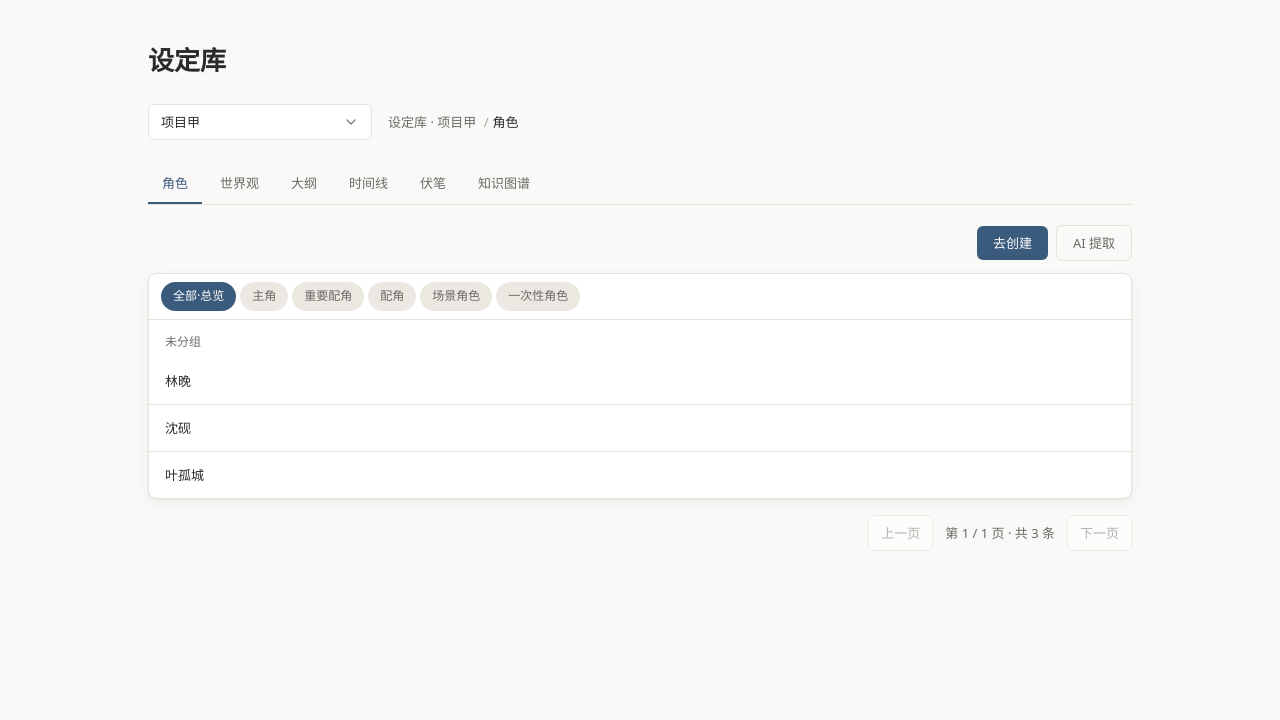
Test: #650 角色关系 GUI（T1 关系区契约，角色详情面板内） › 关闭面板：点 character-detail-close → 面板消失（关系区随之卸载）
Check: the element with test id "library-list" is shown, box [148, 273, 1132, 499]
Click the button "林晚" at (178, 381), box [165, 370, 1047, 392]
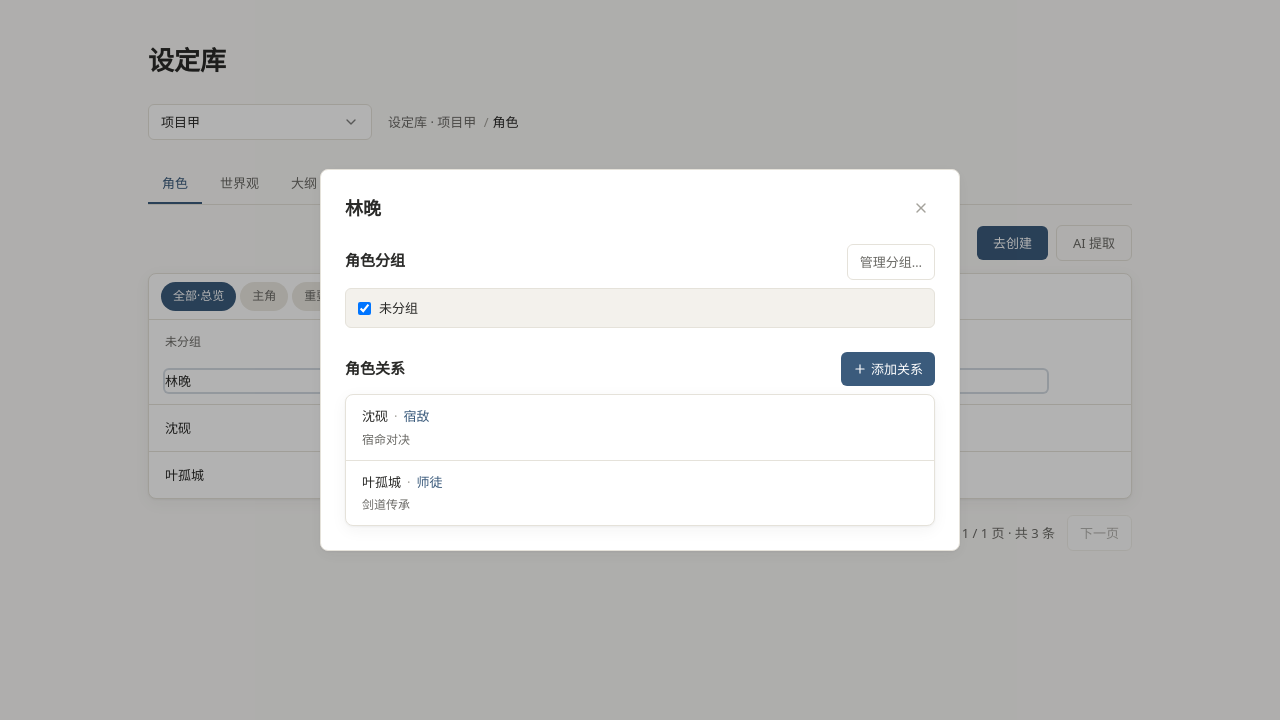
Click the button with test id "character-detail-close" at (921, 208), box [907, 194, 935, 222]
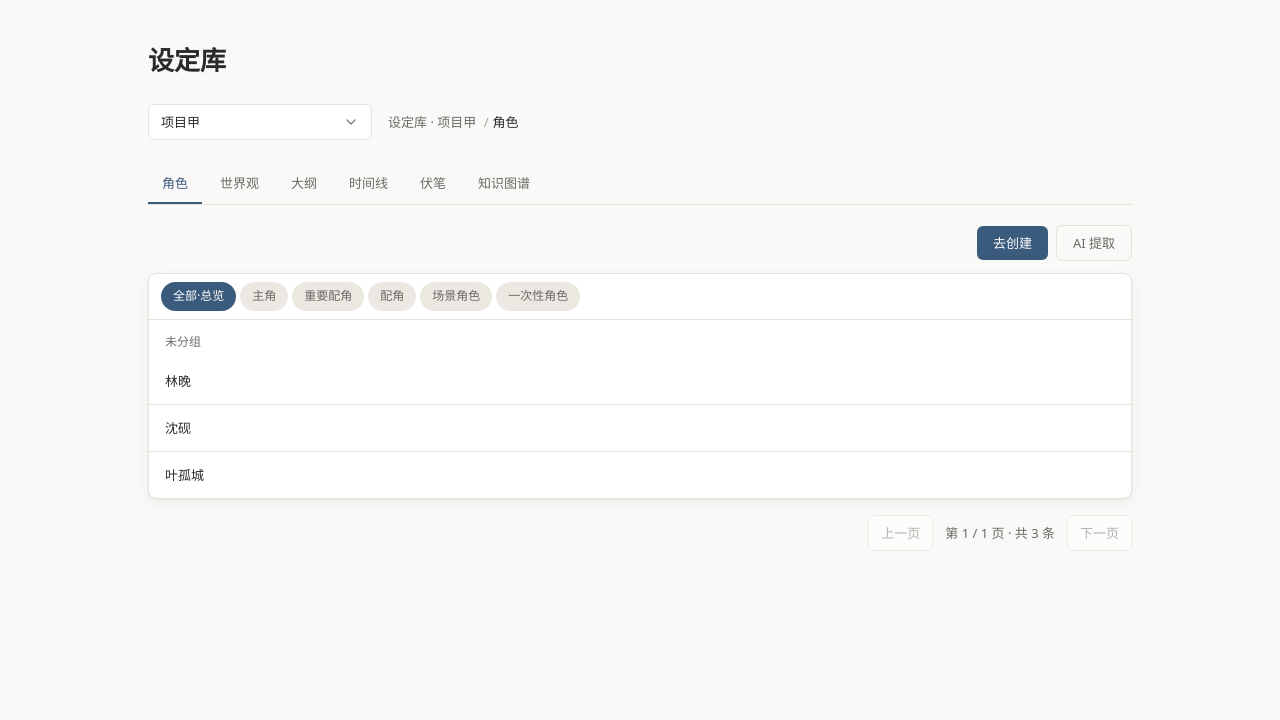
Check: the dialog with test id "character-detail-panel" is gone
